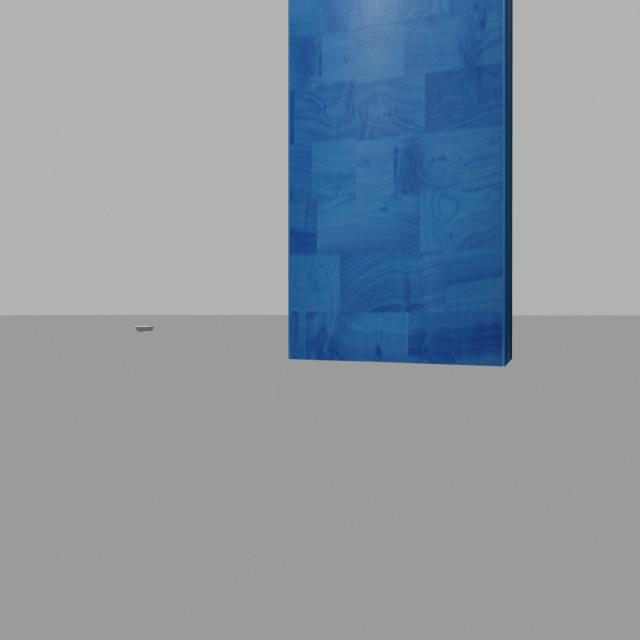bowl: (132, 317, 157, 344)
shelf: (280, 0, 526, 383)
